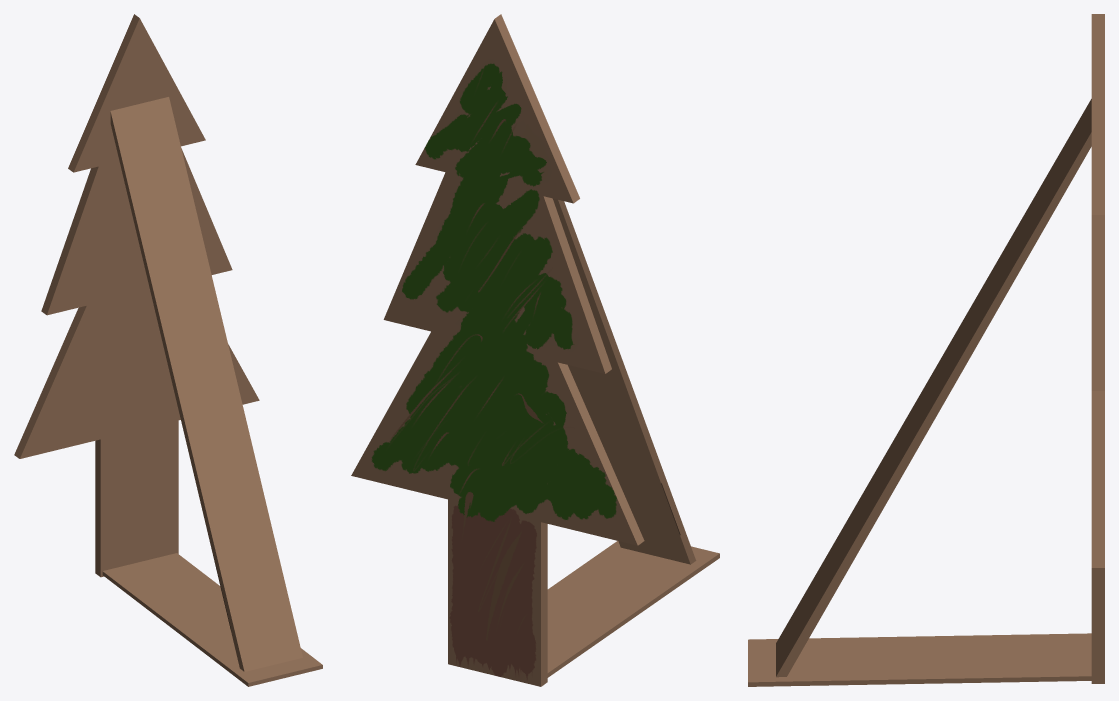
Rendered from TreeXY.fbx.
3 views of the same model, side by side, from view 1: azimuth 30°, elevation 25°; view 2: azimuth 150°, elevation 25°; view 3: azimuth 270°, elevation 25° (orthographic). The views are drawn at different scales.
Parts seen in each view (by area): view 1: Cube; view 2: Cube; view 3: Cube.
Boxes of the visible parts, <box> form: Cube: <box>14,14,322,686</box>; Cube: <box>351,14,719,686</box>; Cube: <box>748,14,1104,686</box>.
Bounding box in the file's own units: 1.82 × 1.99 × 4.01.
